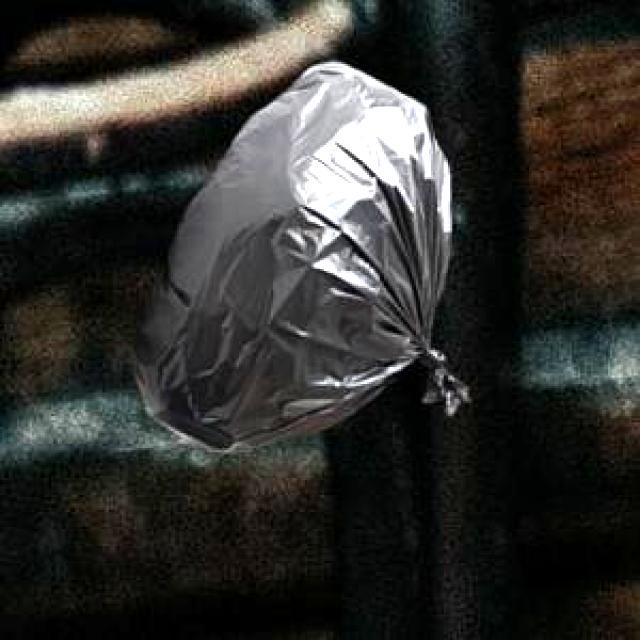Garbage_Bag: (129, 58, 466, 450)
